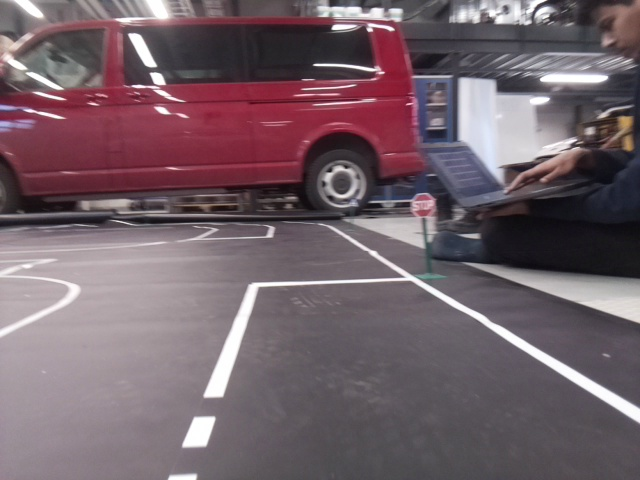Stop: (409, 193, 435, 216)
